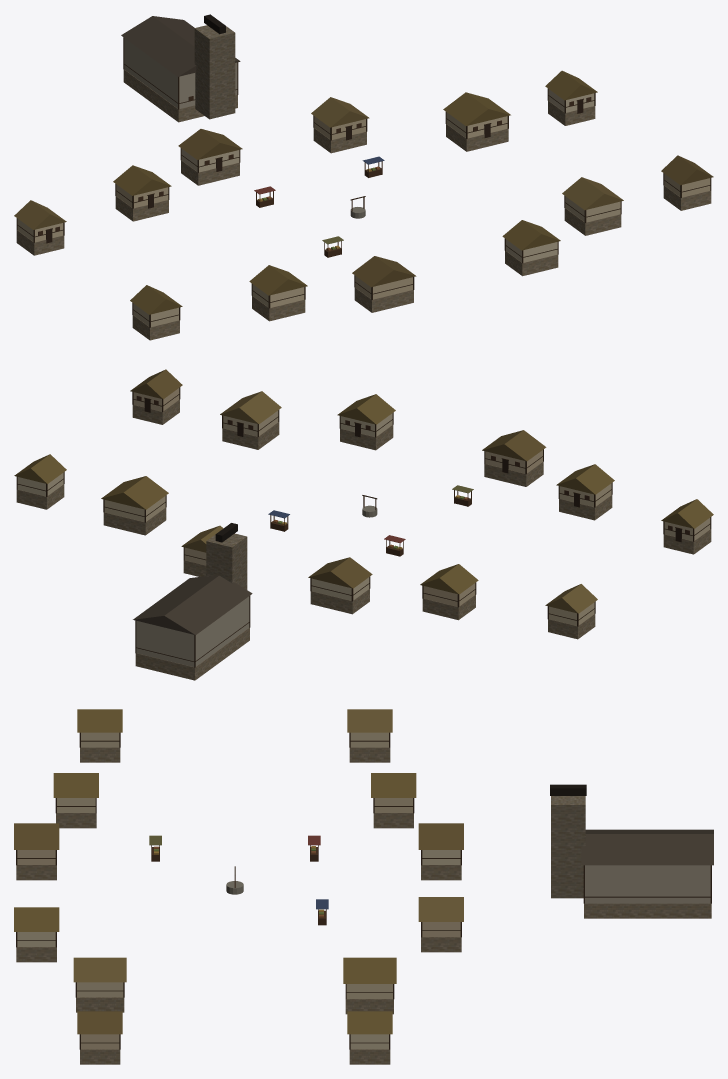
Rendered from poblado.glb.
3 renders of one model, top to bottom at view 1: azimuth 30°, elevation 25°; view 2: azimuth 150°, elevation 25°; view 3: azimuth 270°, elevation 25°, orthographic. The views are drawn at different scales.
Visible parts, largest first — view 1: poblado-1, poblado-0; view 2: poblado-1, poblado-0; view 3: poblado-1, poblado-0.
Boxes of the visible parts, x1,y1,x2,y2 form: poblado-1: (14,14,713,327); poblado-0: (16,25,711,340); poblado-1: (14,369,713,667); poblado-0: (16,399,711,680); poblado-1: (14,709,713,1049); poblado-0: (16,747,711,1064).
Bounding box in the file's own units: 95.7 × 16.05 × 88.2.
Materials: 2 (1 with a texture image).
